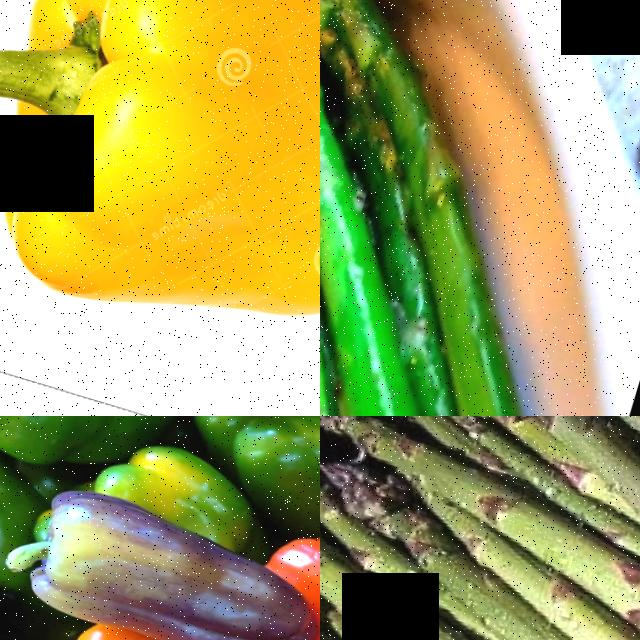asparagus: (320, 0, 640, 416), (320, 416, 640, 599), (320, 517, 640, 640), (349, 416, 640, 478)
bell pepper: (0, 0, 320, 416), (5, 483, 313, 640), (186, 416, 320, 521), (0, 416, 153, 475)
